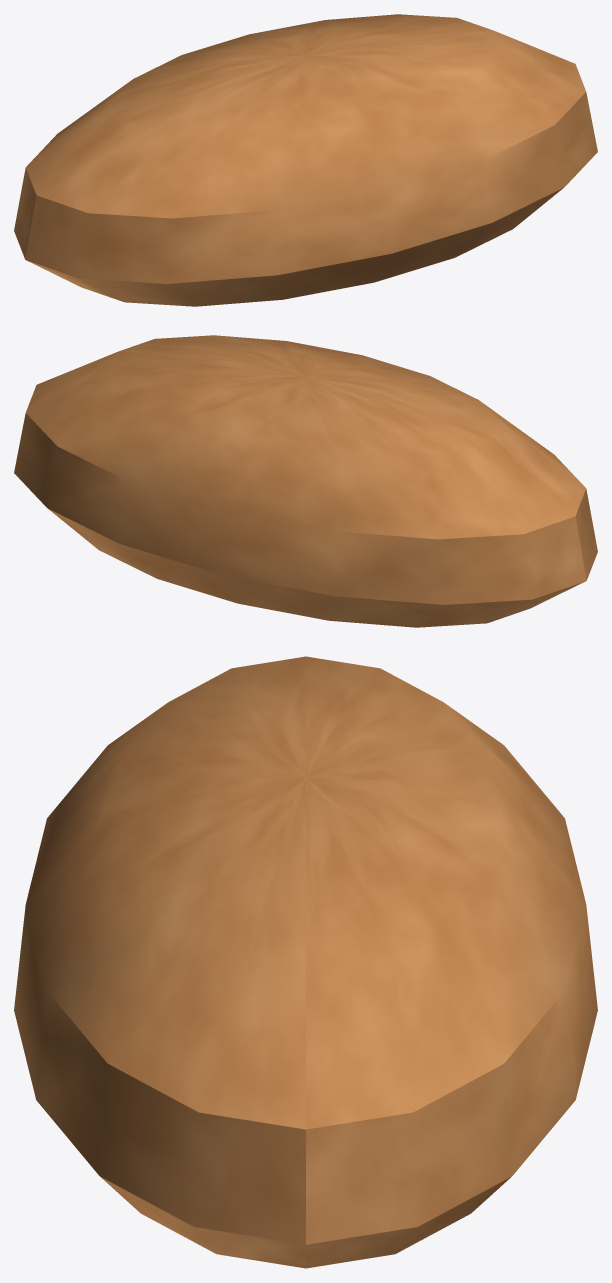
File: SM_Bread_Loaf.fbx
The picture shows the model from 3 angles, top to bottom: view 1: azimuth 30°, elevation 25°; view 2: azimuth 150°, elevation 25°; view 3: azimuth 270°, elevation 25°; orthographic projection. The views are drawn at different scales.
Visible parts, largest first — view 1: SM_Bread_Loaf; view 2: SM_Bread_Loaf; view 3: SM_Bread_Loaf.
Boxes of the visible parts, x1,y1,x2,y2 form: SM_Bread_Loaf: (14, 14, 597, 306); SM_Bread_Loaf: (14, 335, 597, 627); SM_Bread_Loaf: (14, 656, 597, 1268).
Size of the model in its own units: 0.285 by 0.086 by 0.15.
1 material, 1 textured.
